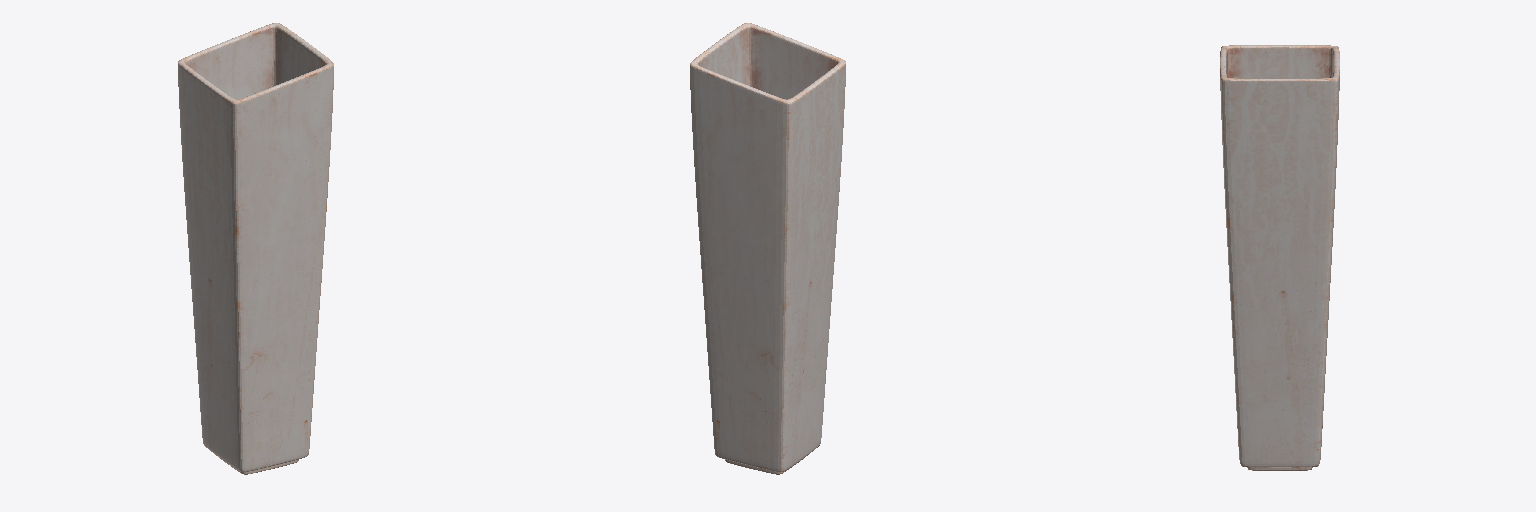
3 views of the same model, side by side, from view 1: azimuth 30°, elevation 25°; view 2: azimuth 150°, elevation 25°; view 3: azimuth 270°, elevation 25° (orthographic).
Parts seen in each view (by area): view 1: ceramic_vase_03; view 2: ceramic_vase_03; view 3: ceramic_vase_03.
Part boxes in pixels (x1,y1,x2,y2): ceramic_vase_03: (178, 23, 333, 474); ceramic_vase_03: (690, 23, 845, 474); ceramic_vase_03: (1220, 45, 1339, 470).
Size of the model in its own units: 0.1122 by 0.4144 by 0.1122.
1 materials, 1 textured.